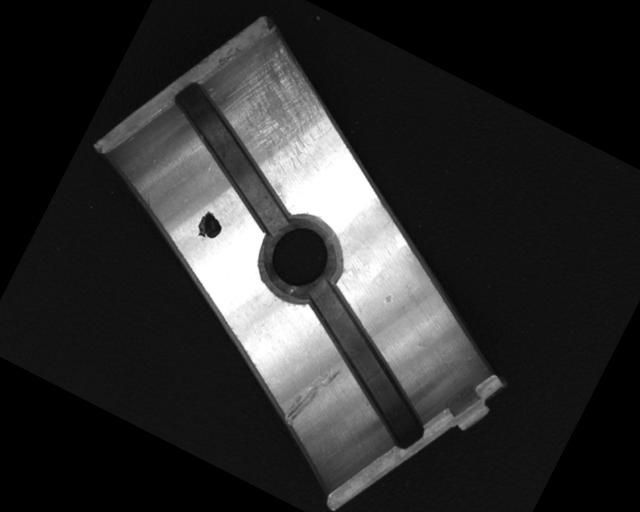blot: (192, 207, 228, 245)
bruise: (381, 293, 393, 308)
gap: (269, 277, 463, 451), (139, 77, 325, 239)
hole: (248, 202, 355, 313)
nick: (280, 356, 341, 436)
scratch: (203, 32, 354, 185)
